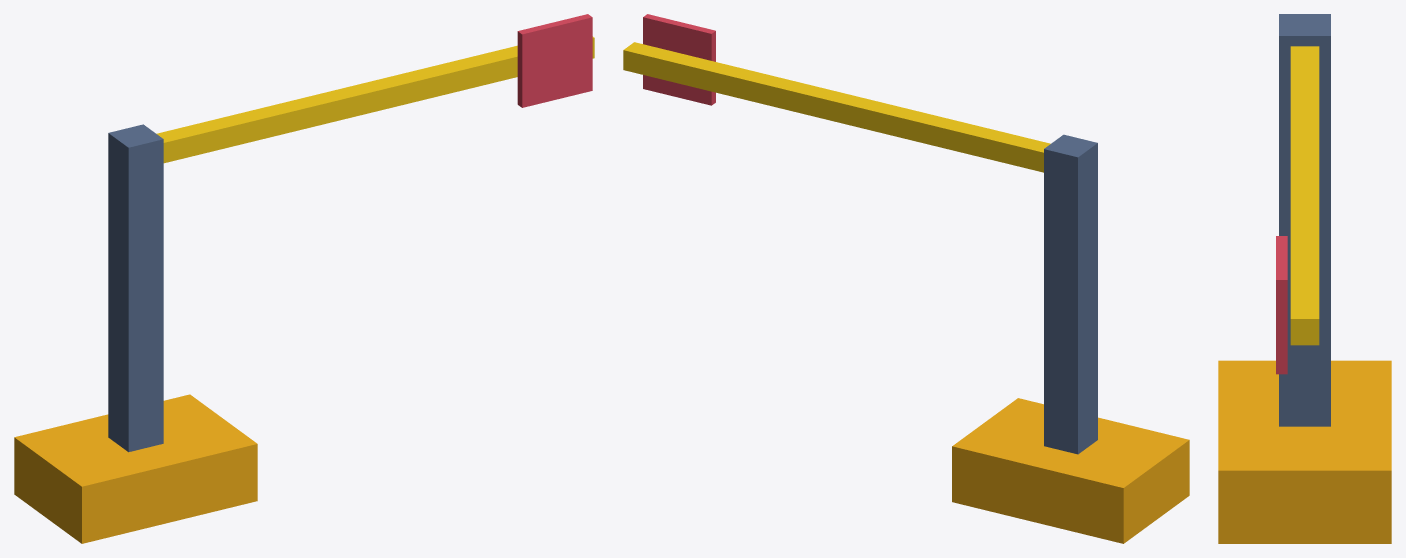
Rendered from pb4000_named.glb.
3 renders of one model, left to right at view 1: azimuth 30°, elevation 25°; view 2: azimuth 150°, elevation 25°; view 3: azimuth 270°, elevation 25°, orthographic. The views are drawn at different scales.
Visible parts, largest first — view 1: Base, Mast, Boom, StopSign; view 2: Base, Mast, Boom, StopSign; view 3: Base, Mast, Boom, StopSign.
Part boxes in pixels (x1=…): Base: x1=14, y1=394, x2=257, y2=543; Mast: x1=108, y1=124, x2=163, y2=452; Boom: x1=156, y1=36, x2=594, y2=163; StopSign: x1=517, y1=14, x2=592, y2=107; Base: x1=952, y1=398, x2=1189, y2=543; Mast: x1=1044, y1=134, x2=1097, y2=454; Boom: x1=623, y1=42, x2=1050, y2=172; StopSign: x1=643, y1=14, x2=715, y2=105; Base: x1=1218, y1=360, x2=1391, y2=543; Mast: x1=1279, y1=14, x2=1330, y2=426; Boom: x1=1290, y1=46, x2=1319, y2=345; StopSign: x1=1276, y1=236, x2=1287, y2=374.
Bounding box in the file's own units: 2.77 × 1.86 × 0.6.
